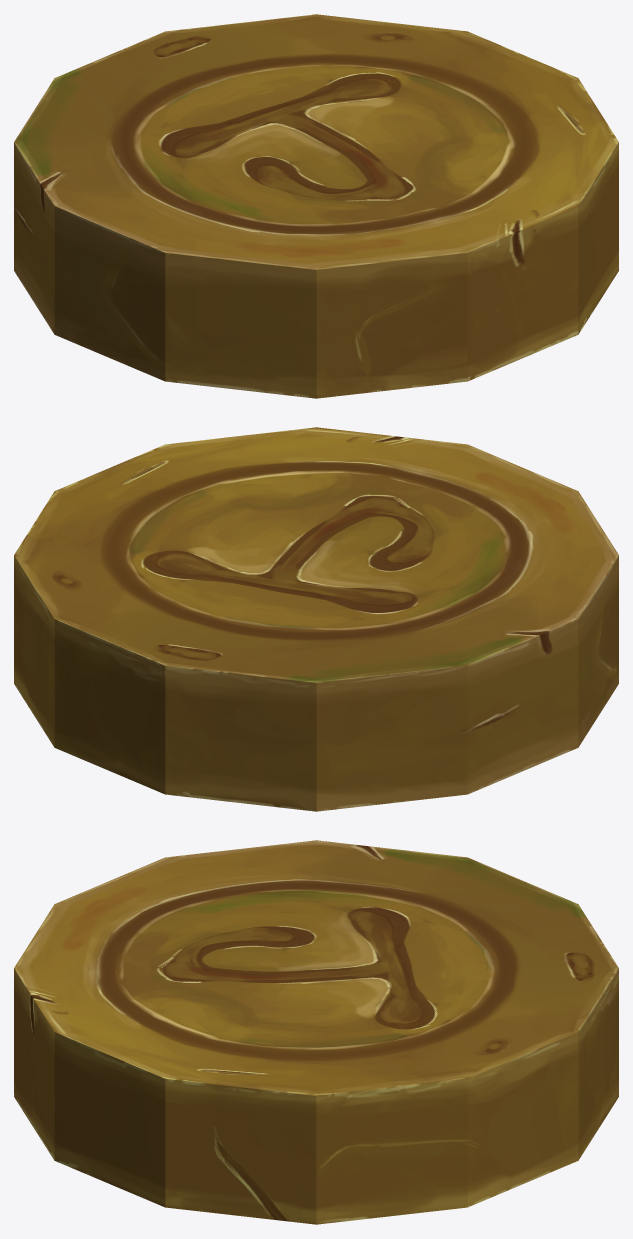
File: coin.glb
The picture shows the model from 3 angles, top to bottom: view 1: azimuth 30°, elevation 25°; view 2: azimuth 150°, elevation 25°; view 3: azimuth 270°, elevation 25°; orthographic projection.
Parts seen in each view (by area): view 1: Circle; view 2: Circle; view 3: Circle.
Part boxes in pixels (box(x1,y1,x2,y2)): Circle: box(14, 14, 618, 398); Circle: box(14, 427, 618, 811); Circle: box(14, 840, 618, 1224).
Bounding box in the file's own units: 36.79 × 8.64 × 36.79.
Materials: 1 (1 with a texture image).
